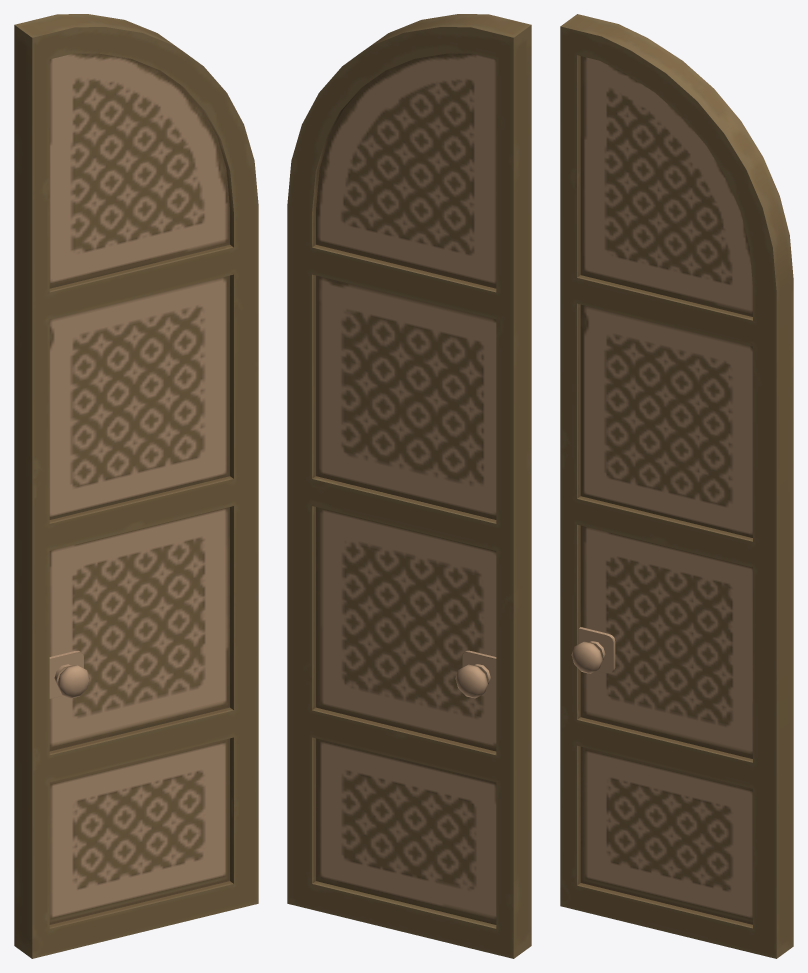
File: ARC0510098.fbx
The picture shows the model from 3 angles, left to right: view 1: azimuth 30°, elevation 25°; view 2: azimuth 150°, elevation 25°; view 3: azimuth 330°, elevation 25°; orthographic projection. The views are drawn at different scales.
Visible parts, largest first — view 1: smARC0510098; view 2: smARC0510098; view 3: smARC0510098.
Part boxes in pixels (x1,y1,x2,y2): smARC0510098: [14, 14, 258, 958]; smARC0510098: [287, 14, 531, 958]; smARC0510098: [560, 14, 793, 958].
Bounding box in the file's own units: 84.95 × 330 × 26.36.
Materials: 1 (1 with a texture image).
